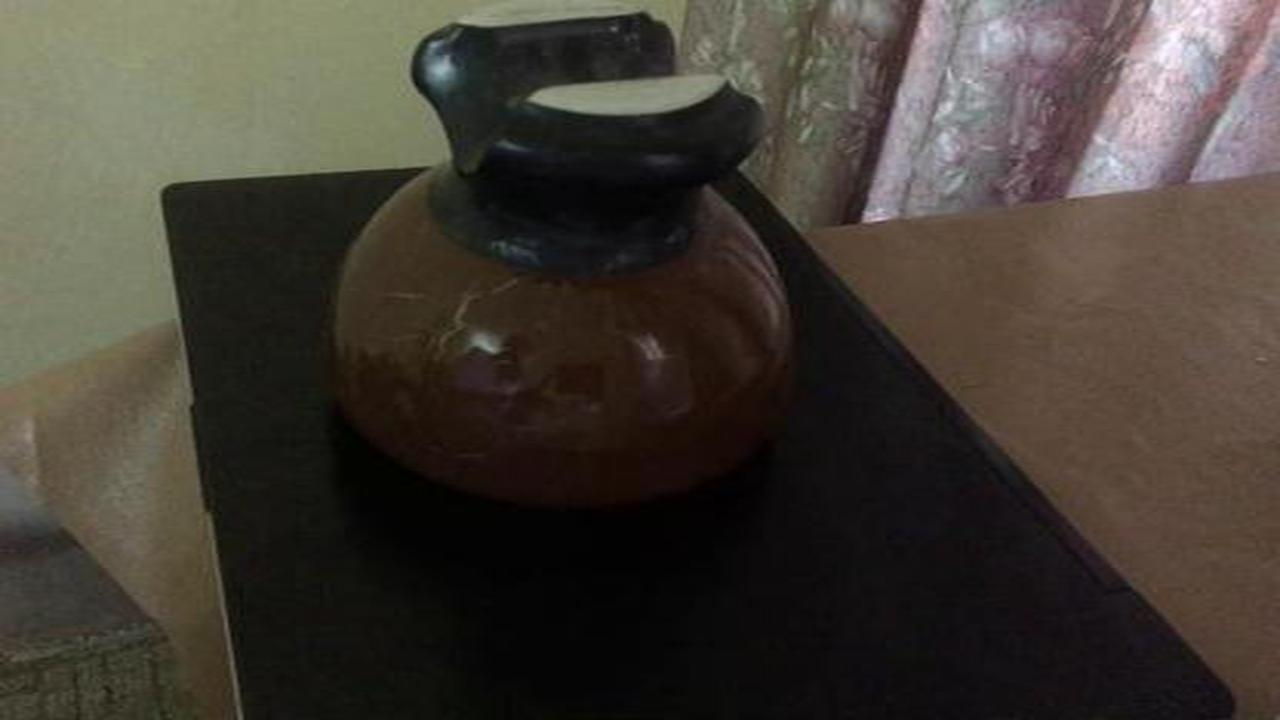insulator_pin: (299, 9, 844, 549)
